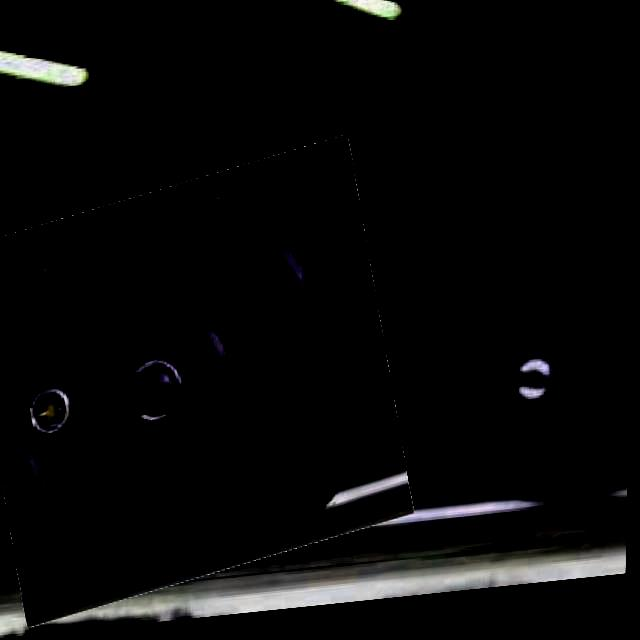barbell: (1, 155, 407, 615)
